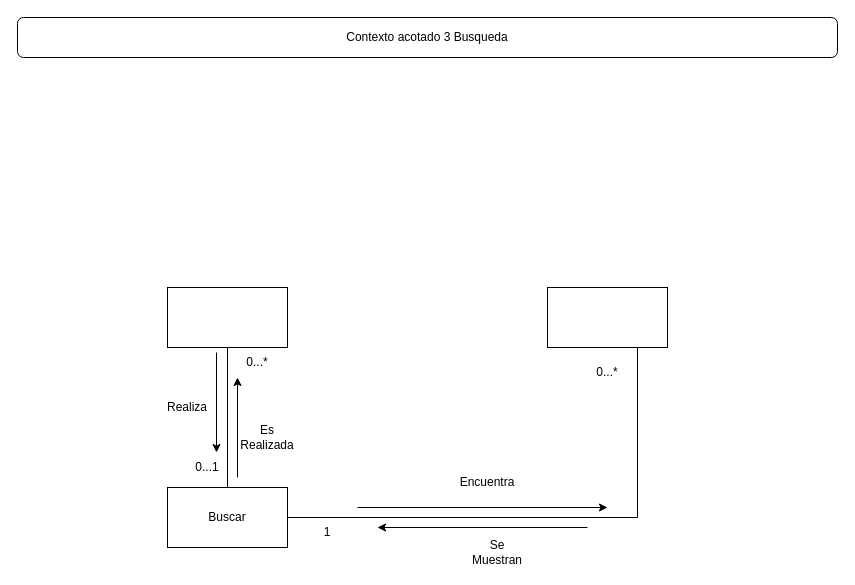
The diagram is 855 pixels wide and 585 high, and some of its shapes have lost their labels. Here are the shapes that lost their labels. From the top down, the centre of each, then its label:
At (227,317): "Usuario".
At (607,317): "Servicio".
